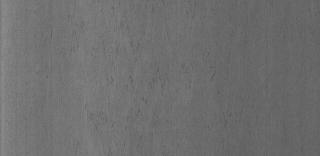silk spot: (87, 12, 179, 128)
